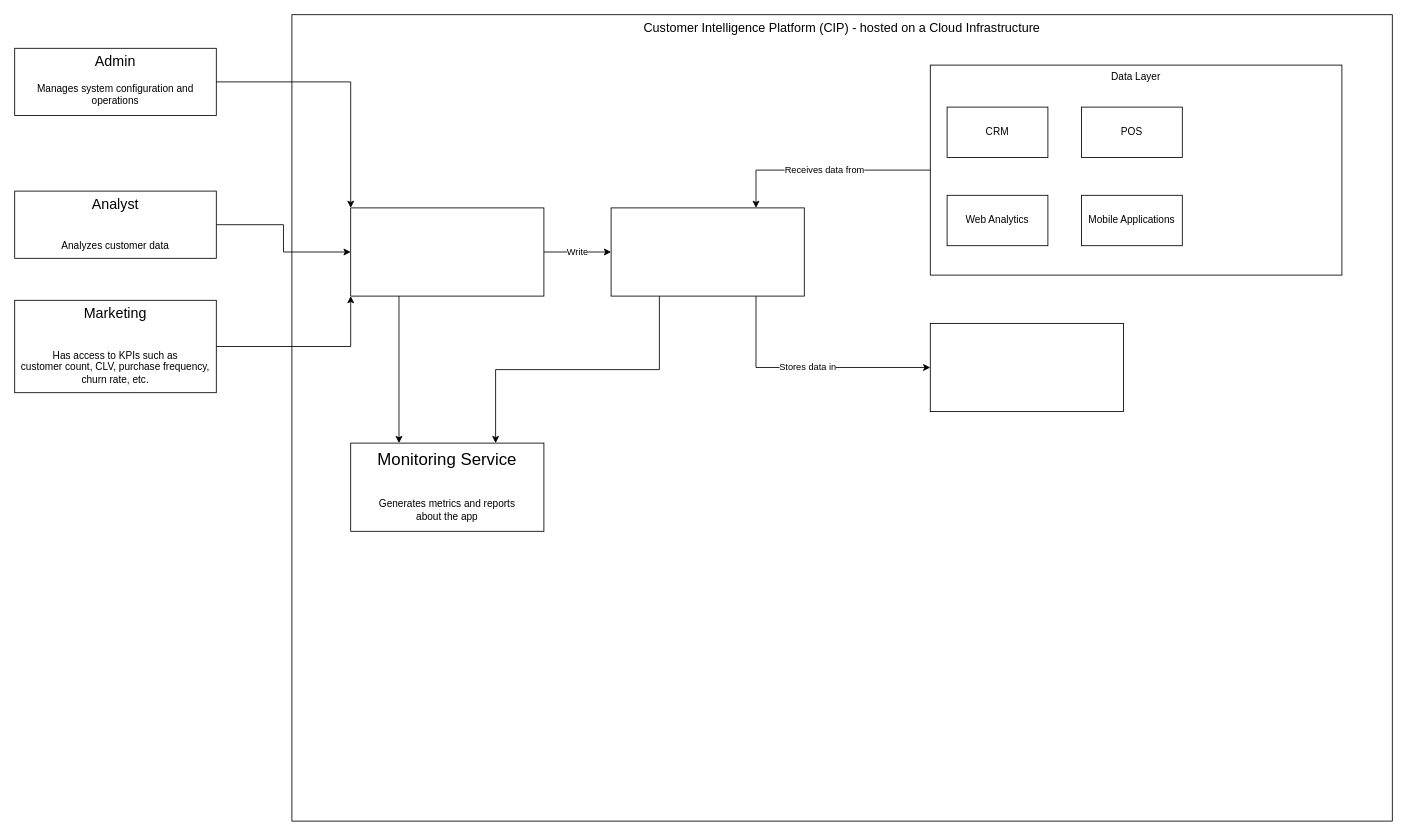
Some shapes in this 1407 by 836 pixel diagram are drawn without their labels. Here are the shapes that lost their labels. From the top down, the centre of each, then its label:
At [447,251]: "Web Application".
At [707,251]: "RESTful API".
At [1026,367]: "Database/Data Warehouse".
